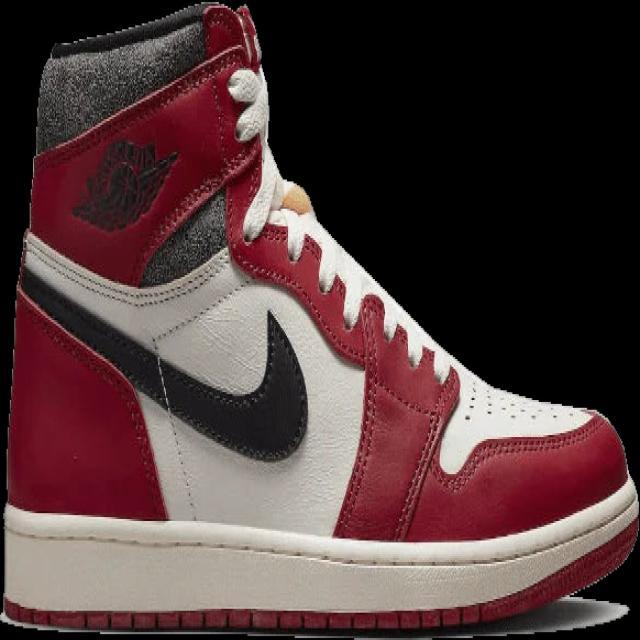J1_InsoleChar: (2, 2, 637, 633)
J1_ShoeLogo: (69, 136, 179, 232)
J1_ShoeShape: (24, 2, 310, 461)
J1_StitchPattern: (18, 222, 595, 540), (2, 487, 637, 630), (259, 181, 591, 429), (18, 235, 309, 463), (1, 595, 631, 634), (224, 62, 314, 260), (20, 230, 232, 308), (227, 4, 281, 243), (390, 363, 461, 541), (146, 344, 203, 521), (149, 278, 250, 349), (462, 375, 590, 428), (461, 375, 480, 423)
